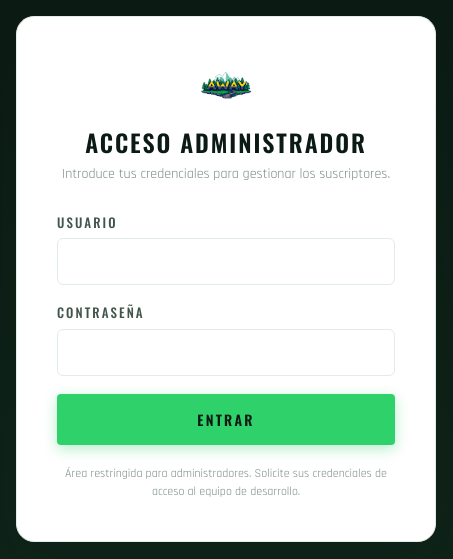
it: AdminLogin › el botón se deshabilita mientras carga
This screenshot has width=453, height=559.
Type "admin" into the field labelled "Usuario" at coordinates (226, 262), box [57,238,395,285]
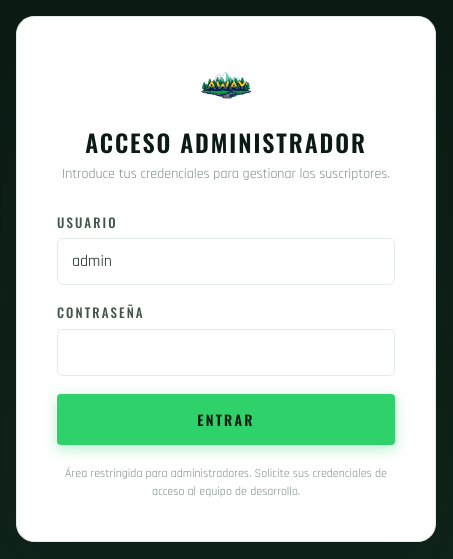
Type "admin123" into the password field labelled "Contraseña" at coordinates (226, 352), box [57,329,395,376]
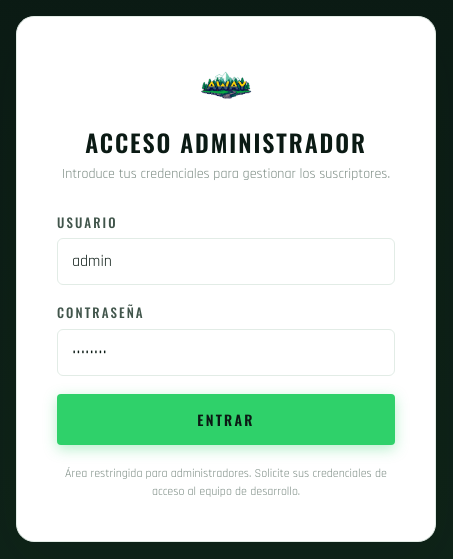
Click the button "Entrar" at coordinates (226, 419), box [57,394,395,445]
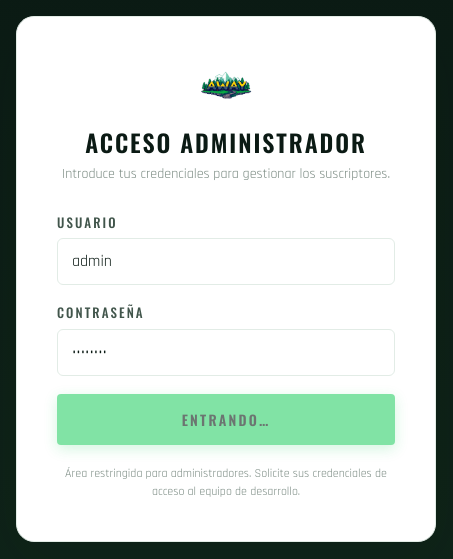
Result: the button is disabled at [57,394,395,445]
